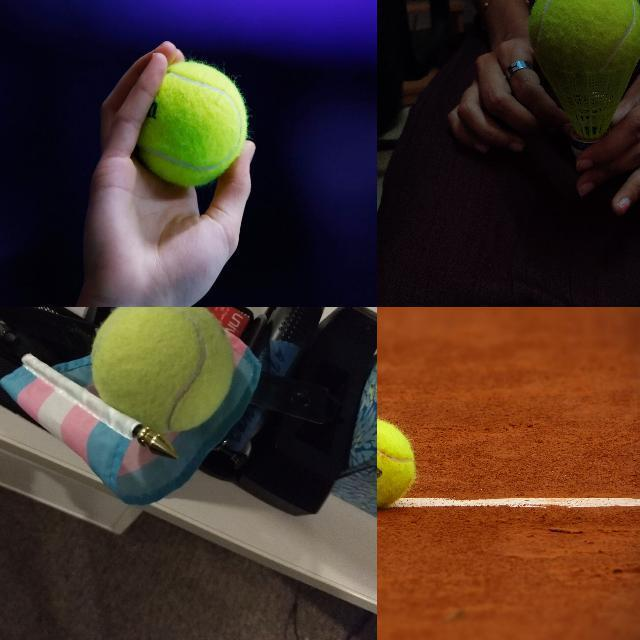tennis-ball: (137, 60, 247, 186), (89, 307, 236, 393), (528, 0, 639, 57), (377, 418, 414, 509)
